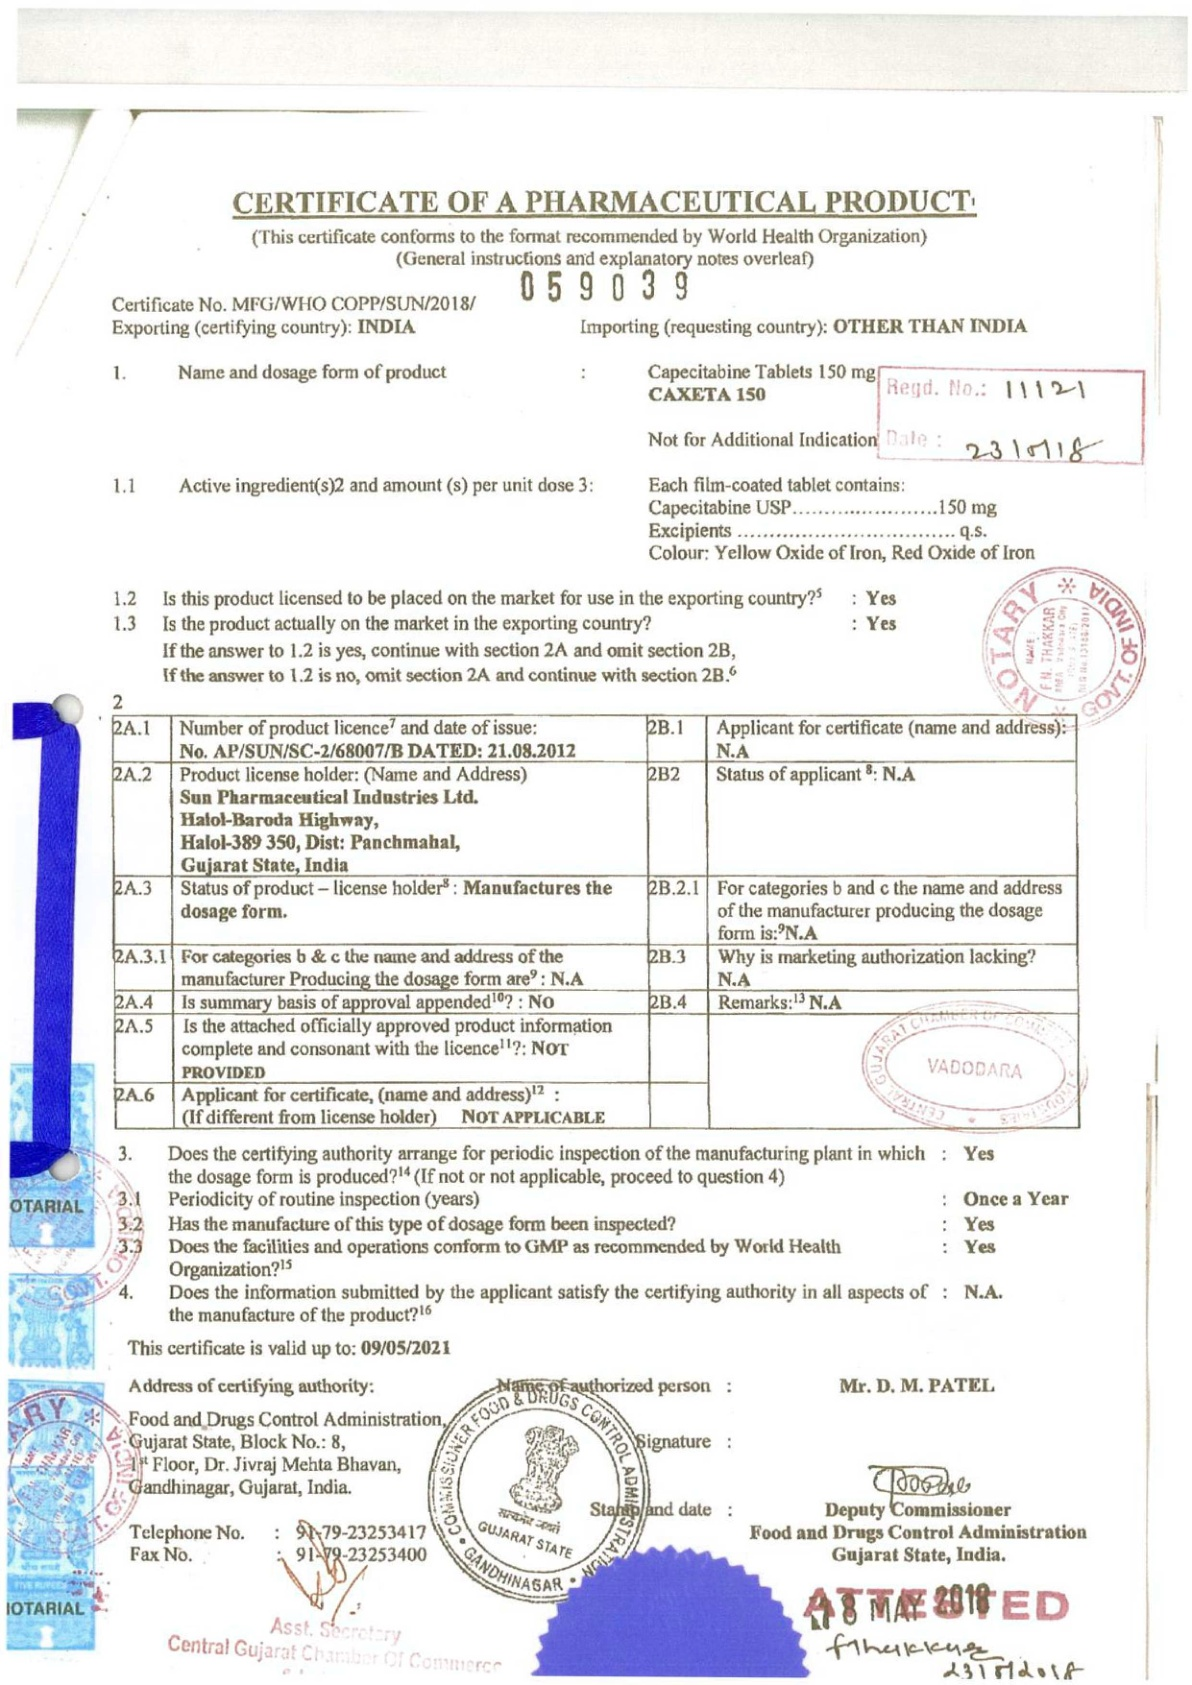merged_cells: (108, 712, 1082, 1130)
